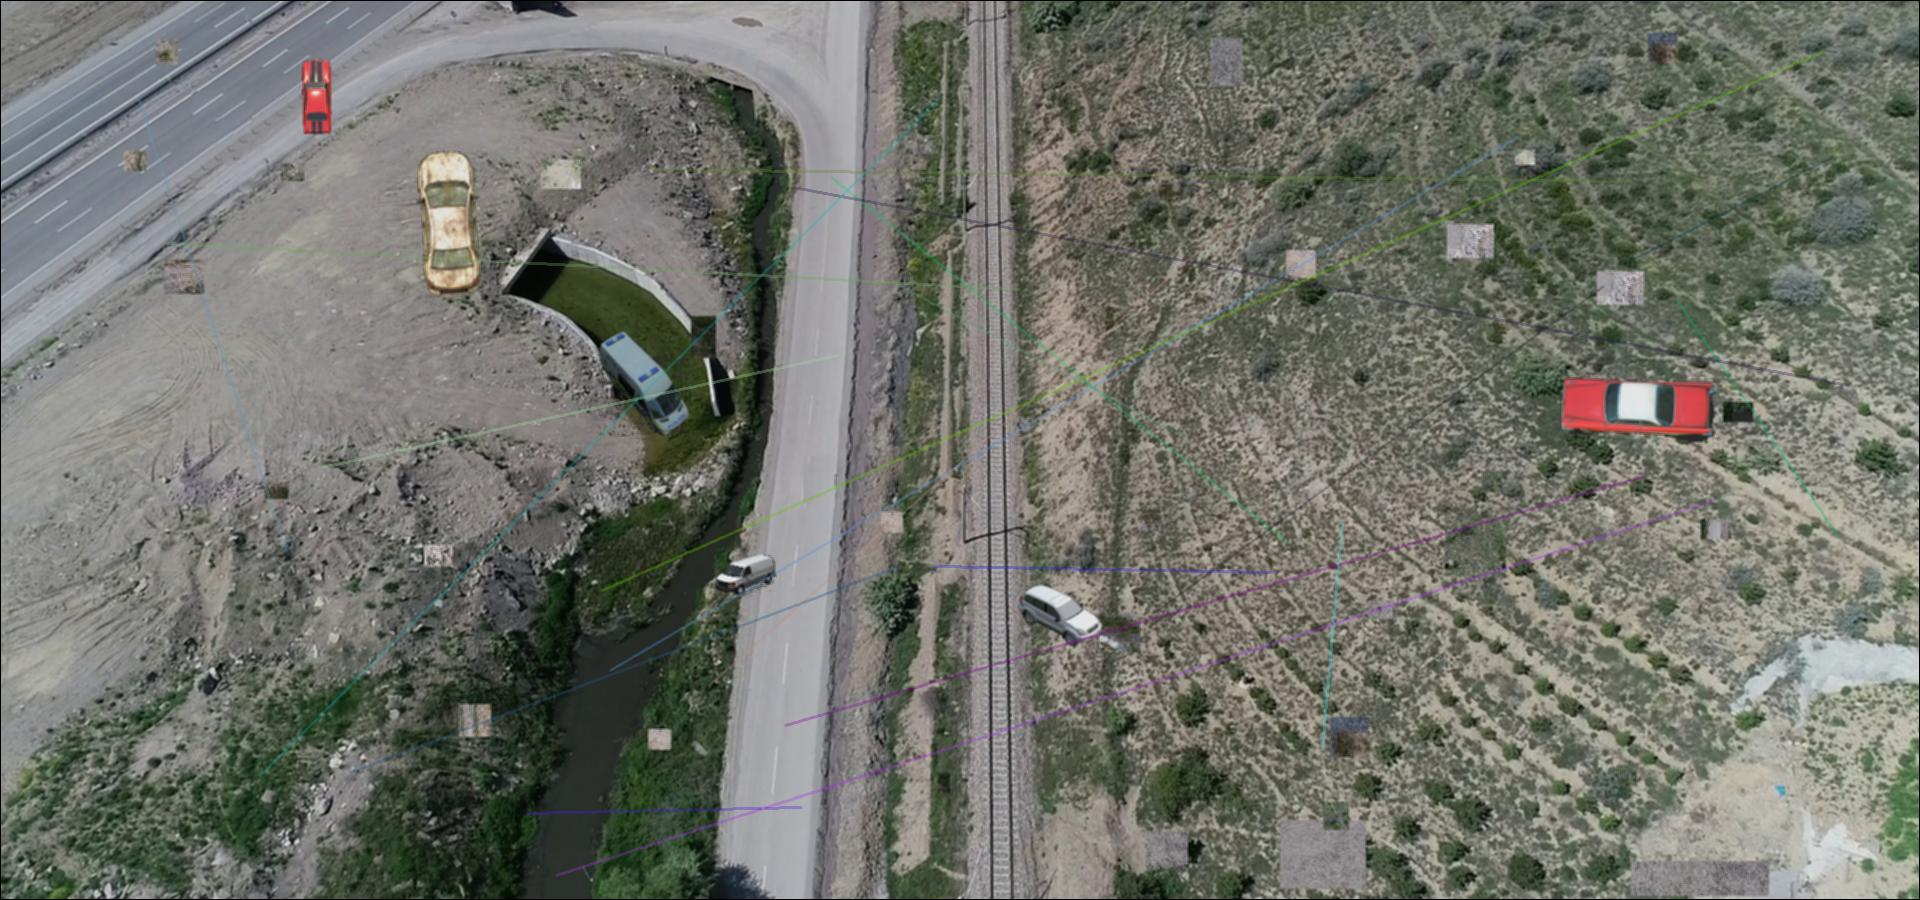arac: (1560, 376, 1720, 443), (415, 149, 482, 298), (598, 331, 689, 436), (1018, 582, 1103, 647), (299, 58, 336, 136), (715, 553, 776, 598)
